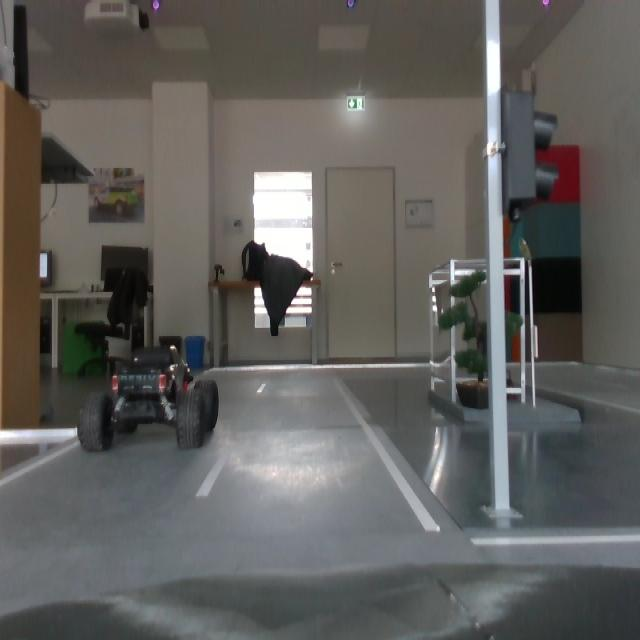car: (77, 342, 222, 455)
potted plant: (440, 268, 528, 382)
traffic light: (502, 89, 561, 212)
